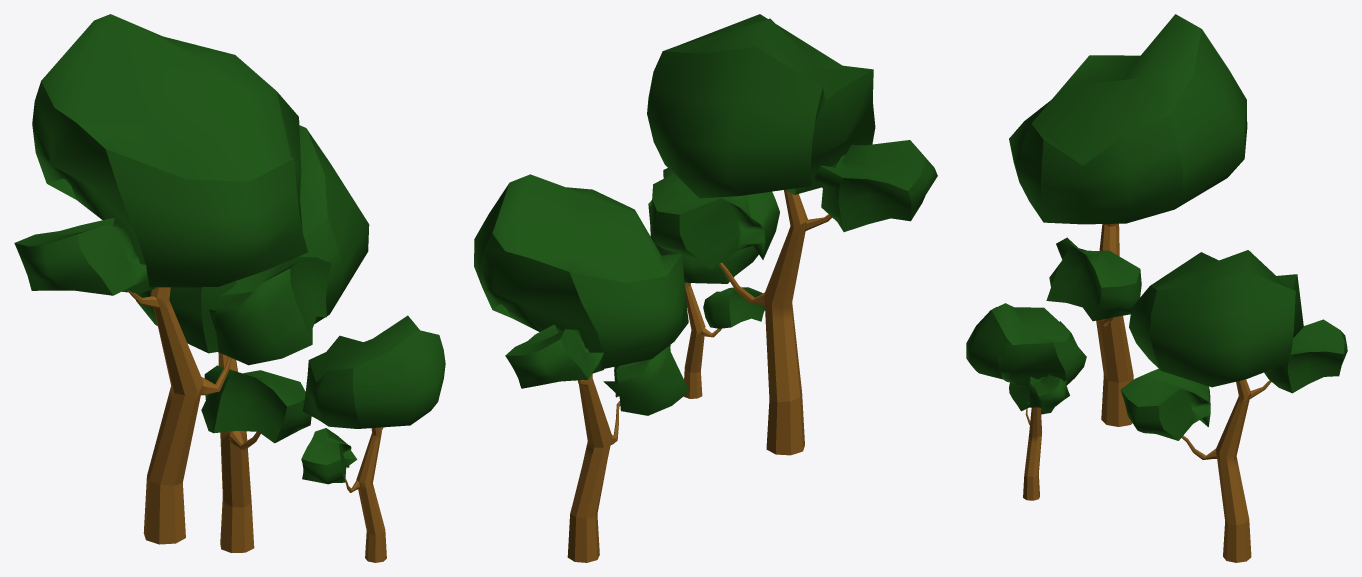
File: Trees.fbx
3 views of the same model, side by side, from view 1: azimuth 30°, elevation 25°; view 2: azimuth 150°, elevation 25°; view 3: azimuth 270°, elevation 25° (orthographic). The views are drawn at different scales.
Visible parts, largest first — view 1: Tree4; view 2: Tree4; view 3: Tree4.
Part boxes in pixels (left/top/right/bottom): Tree4: left=14, top=14, right=445, bottom=562; Tree4: left=474, top=14, right=937, bottom=562; Tree4: left=966, top=14, right=1347, bottom=562.
Bounding box in the file's own units: 21.51 × 30.3 × 21.88.
